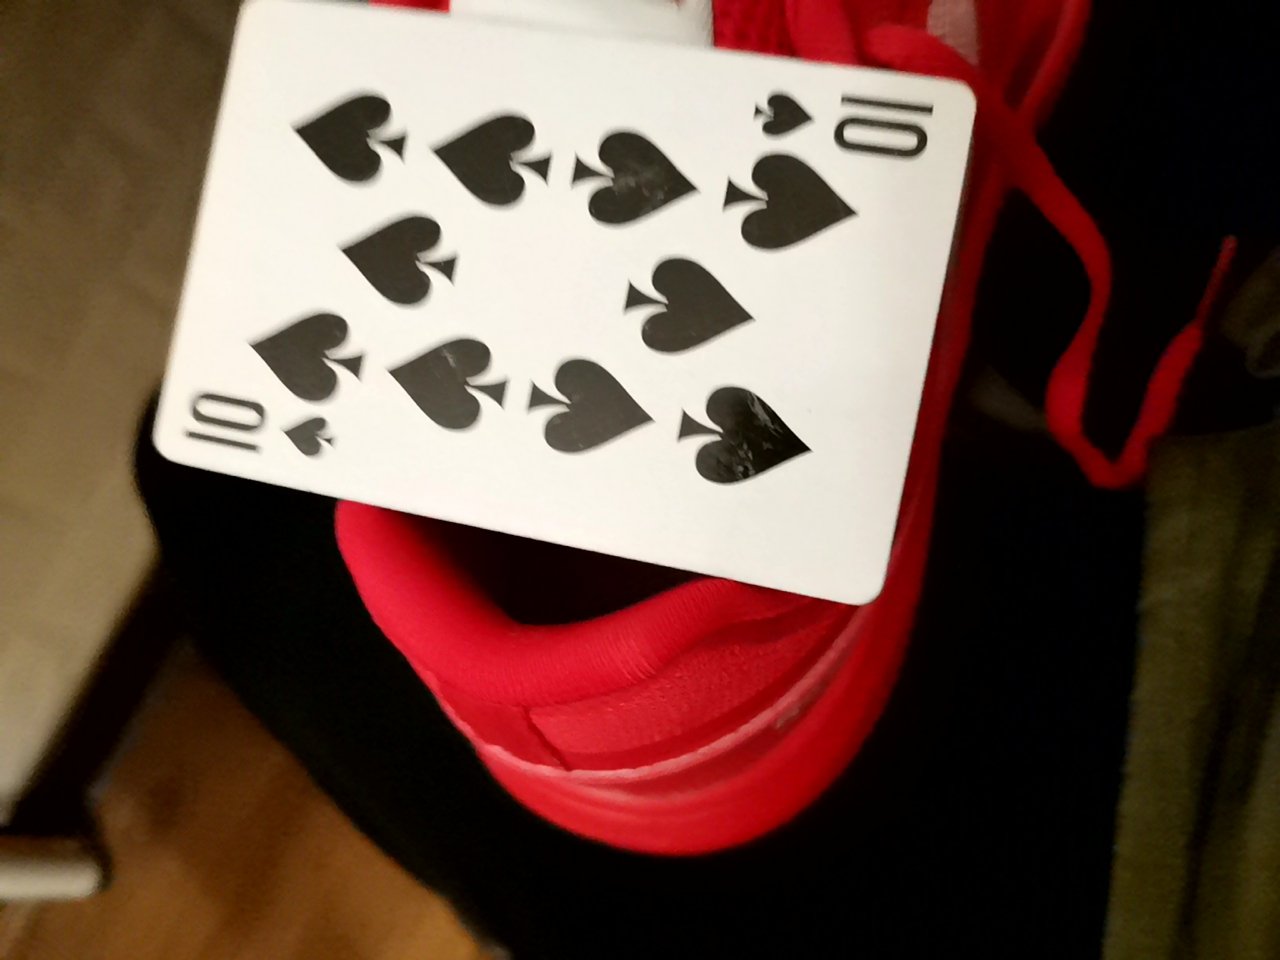ht 10: (134, 23, 1014, 615)
